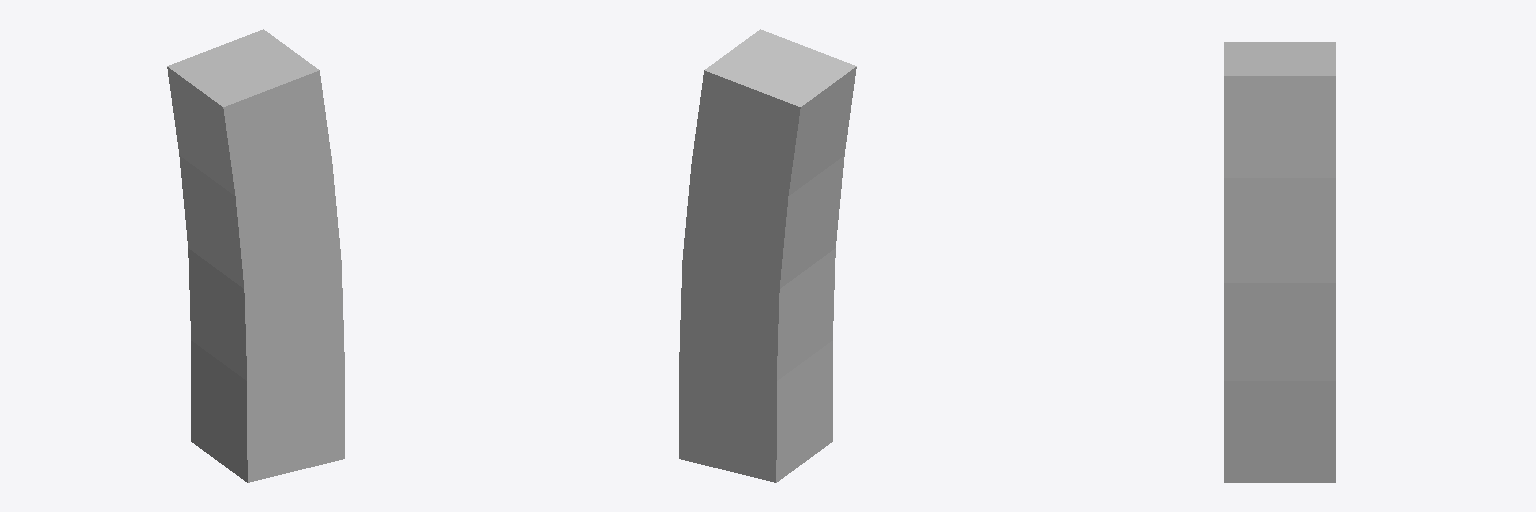
Rendered from Animation_000041.obj.
3 views of the same model, side by side, from view 1: azimuth 30°, elevation 25°; view 2: azimuth 150°, elevation 25°; view 3: azimuth 270°, elevation 25° (orthographic).
Parts seen in each view (by area): view 1: Cube; view 2: Cube; view 3: Cube.
Boxes of the visible parts, x1,y1,x2,y2 form: Cube: [167, 29, 344, 482]; Cube: [679, 29, 856, 482]; Cube: [1224, 42, 1335, 482].
Size of the model in its own units: 1.66 by 5.16 by 1.33.